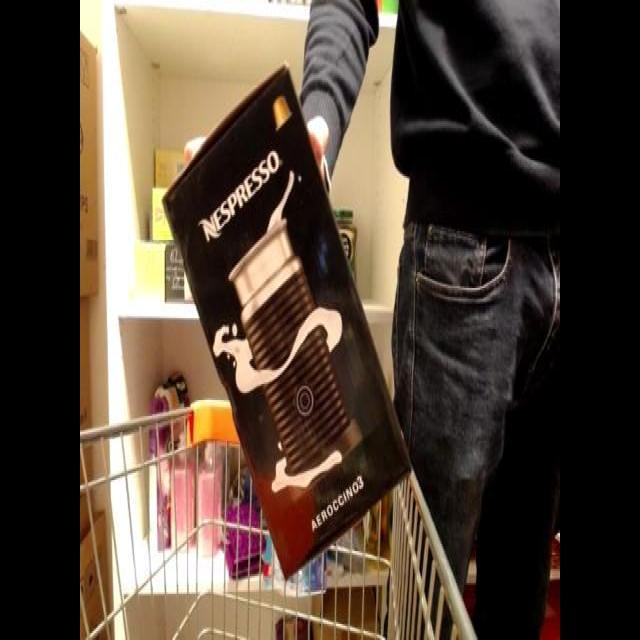Nespresso: (160, 42, 430, 589)
